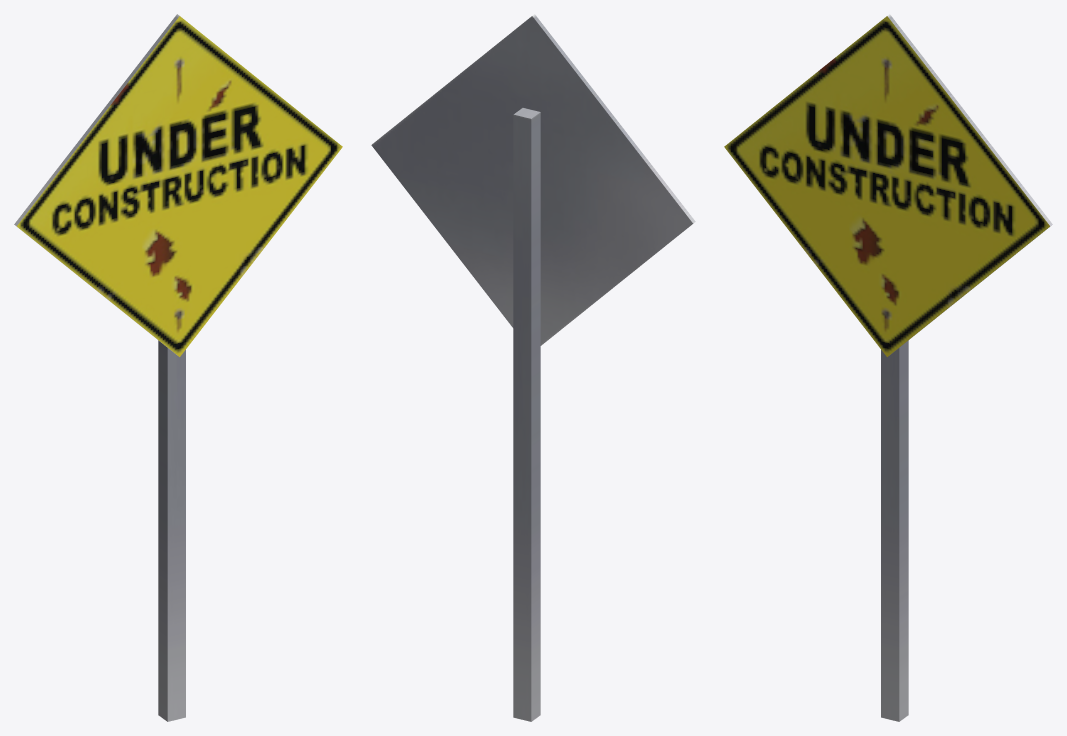
The model's file is constructionSign.fbx.
3 views of the same model, side by side, from view 1: azimuth 30°, elevation 25°; view 2: azimuth 150°, elevation 25°; view 3: azimuth 330°, elevation 25° (orthographic).
Visible parts, largest first — view 1: Construction_Sign; view 2: Construction_Sign; view 3: Construction_Sign.
Part boxes in pixels (x1,y1,x2,y2): Construction_Sign: [14, 14, 342, 721]; Construction_Sign: [371, 14, 695, 721]; Construction_Sign: [724, 14, 1052, 721].
Bounding box in the file's own units: 2.42 × 5 × 0.1605.
